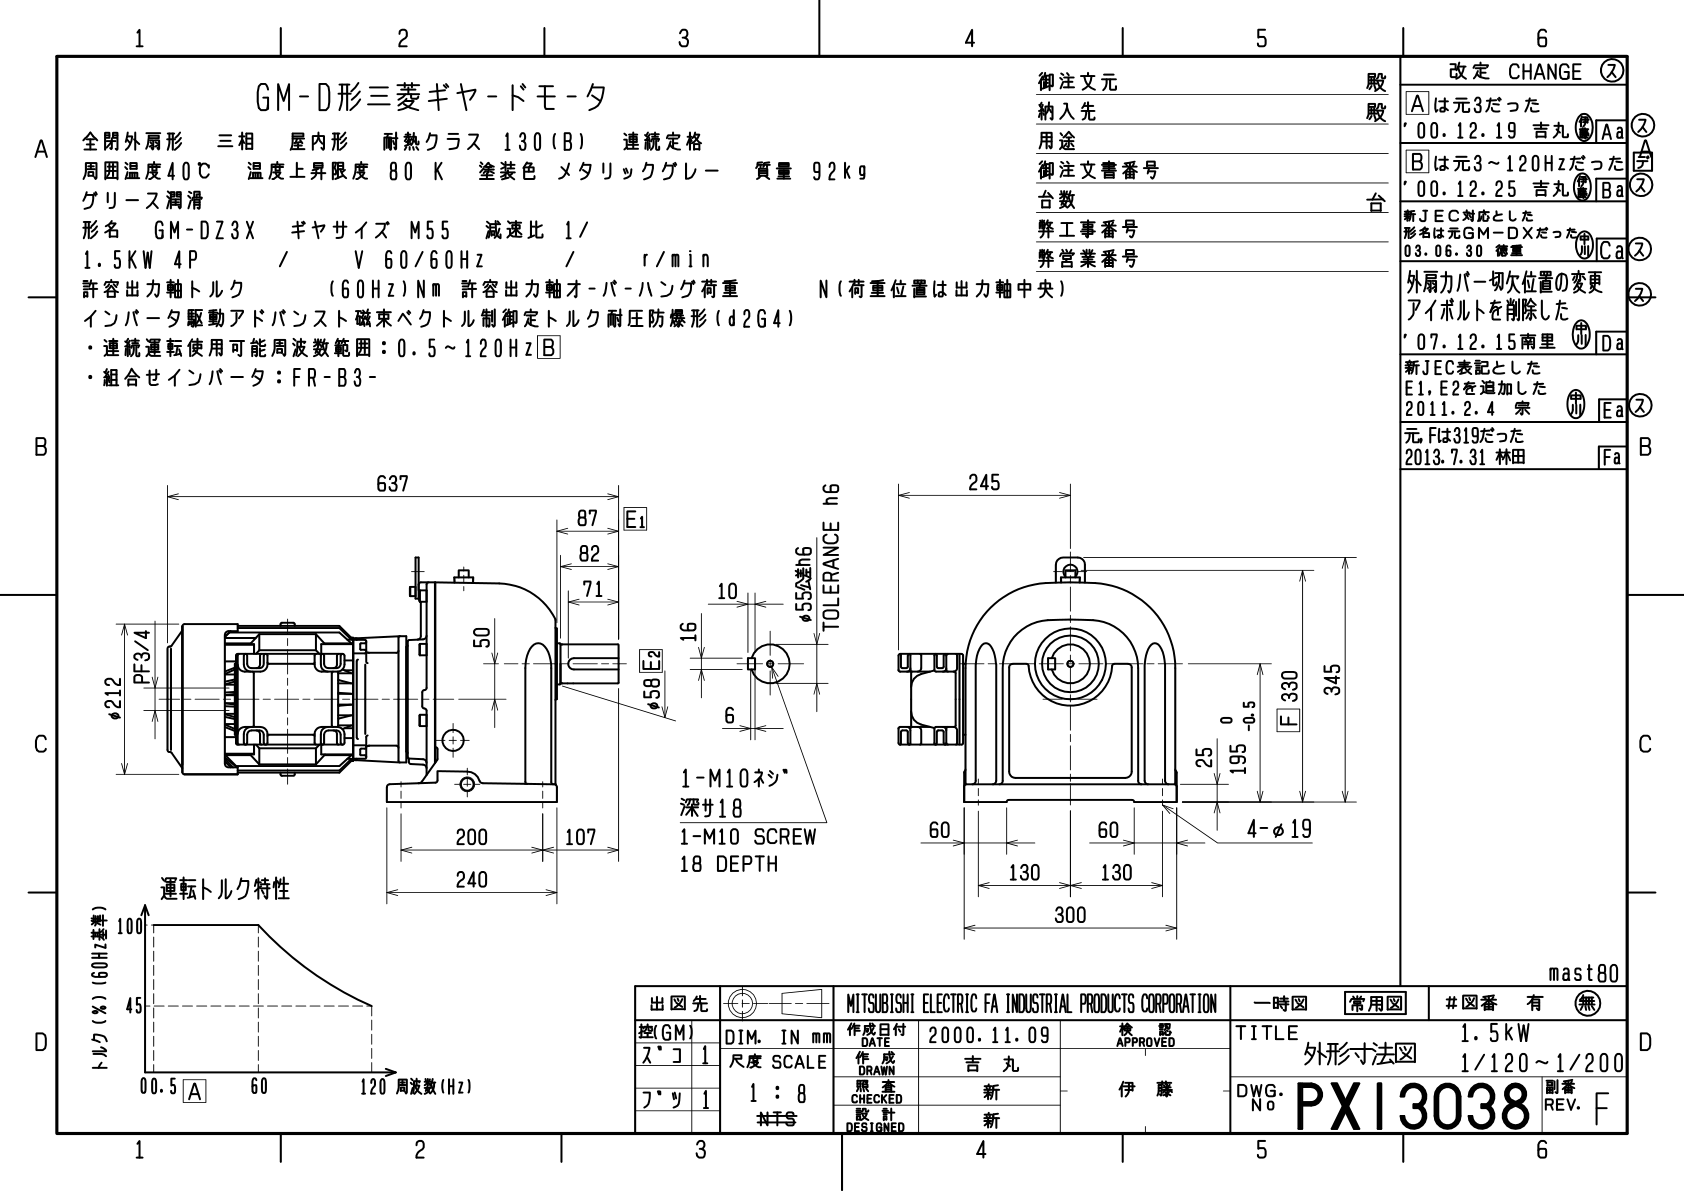GM_D_制御屋内_三相_脚: (8, 9, 1684, 1191)
